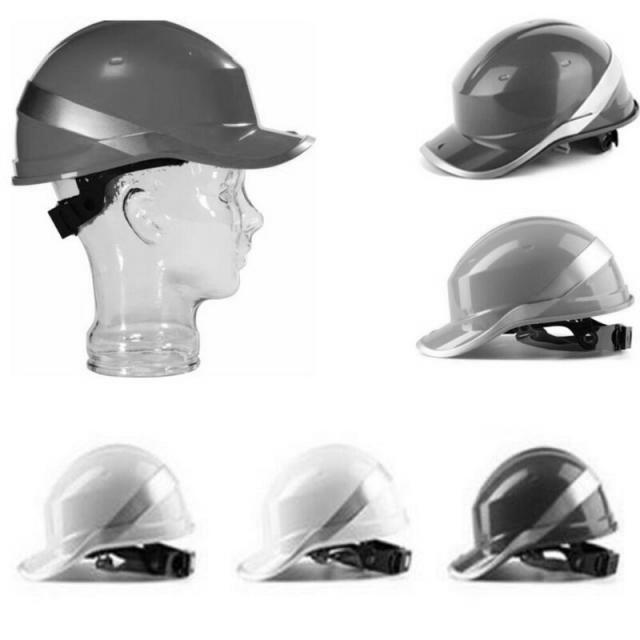construction helmet: (14, 19, 316, 189), (419, 18, 638, 181), (415, 216, 635, 362), (236, 441, 417, 586), (17, 442, 197, 586), (448, 446, 622, 584)
